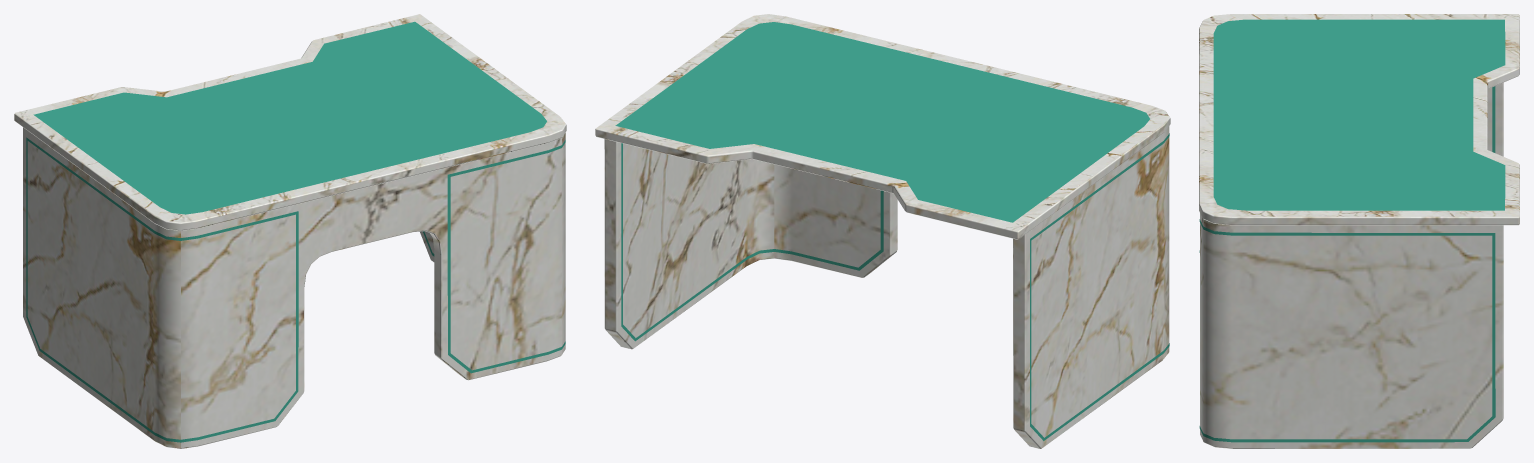
Rendered from FUR0310015.fbx.
3 renders of one model, left to right at view 1: azimuth 30°, elevation 25°; view 2: azimuth 150°, elevation 25°; view 3: azimuth 270°, elevation 25°, orthographic. The views are drawn at different scales.
Visible parts, largest first — view 1: smFUR0310015; view 2: smFUR0310015; view 3: smFUR0310015.
Boxes of the visible parts, <box> form: smFUR0310015: <box>14,14,566,448</box>; smFUR0310015: <box>595,14,1170,448</box>; smFUR0310015: <box>1199,14,1519,448</box>.
Size of the model in its own units: 210 by 112 by 140.
1 material, 1 textured.
